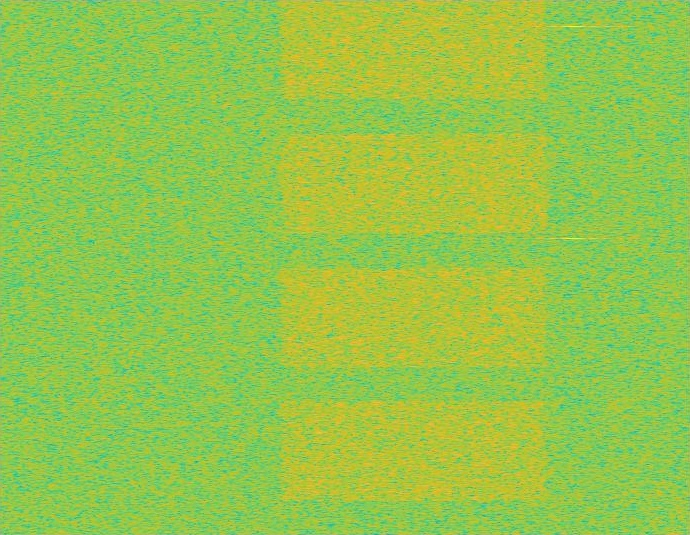5G: (276, 0, 552, 534)
Radar: (566, 0, 580, 534)
